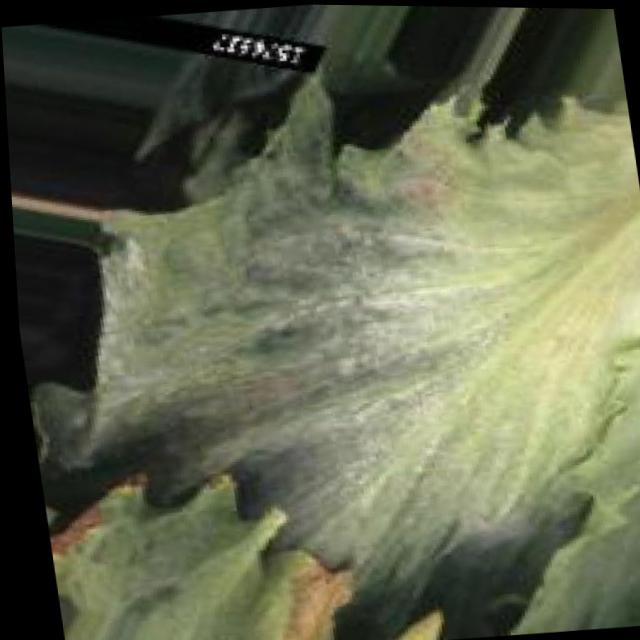Bad: (96, 104, 640, 640)
